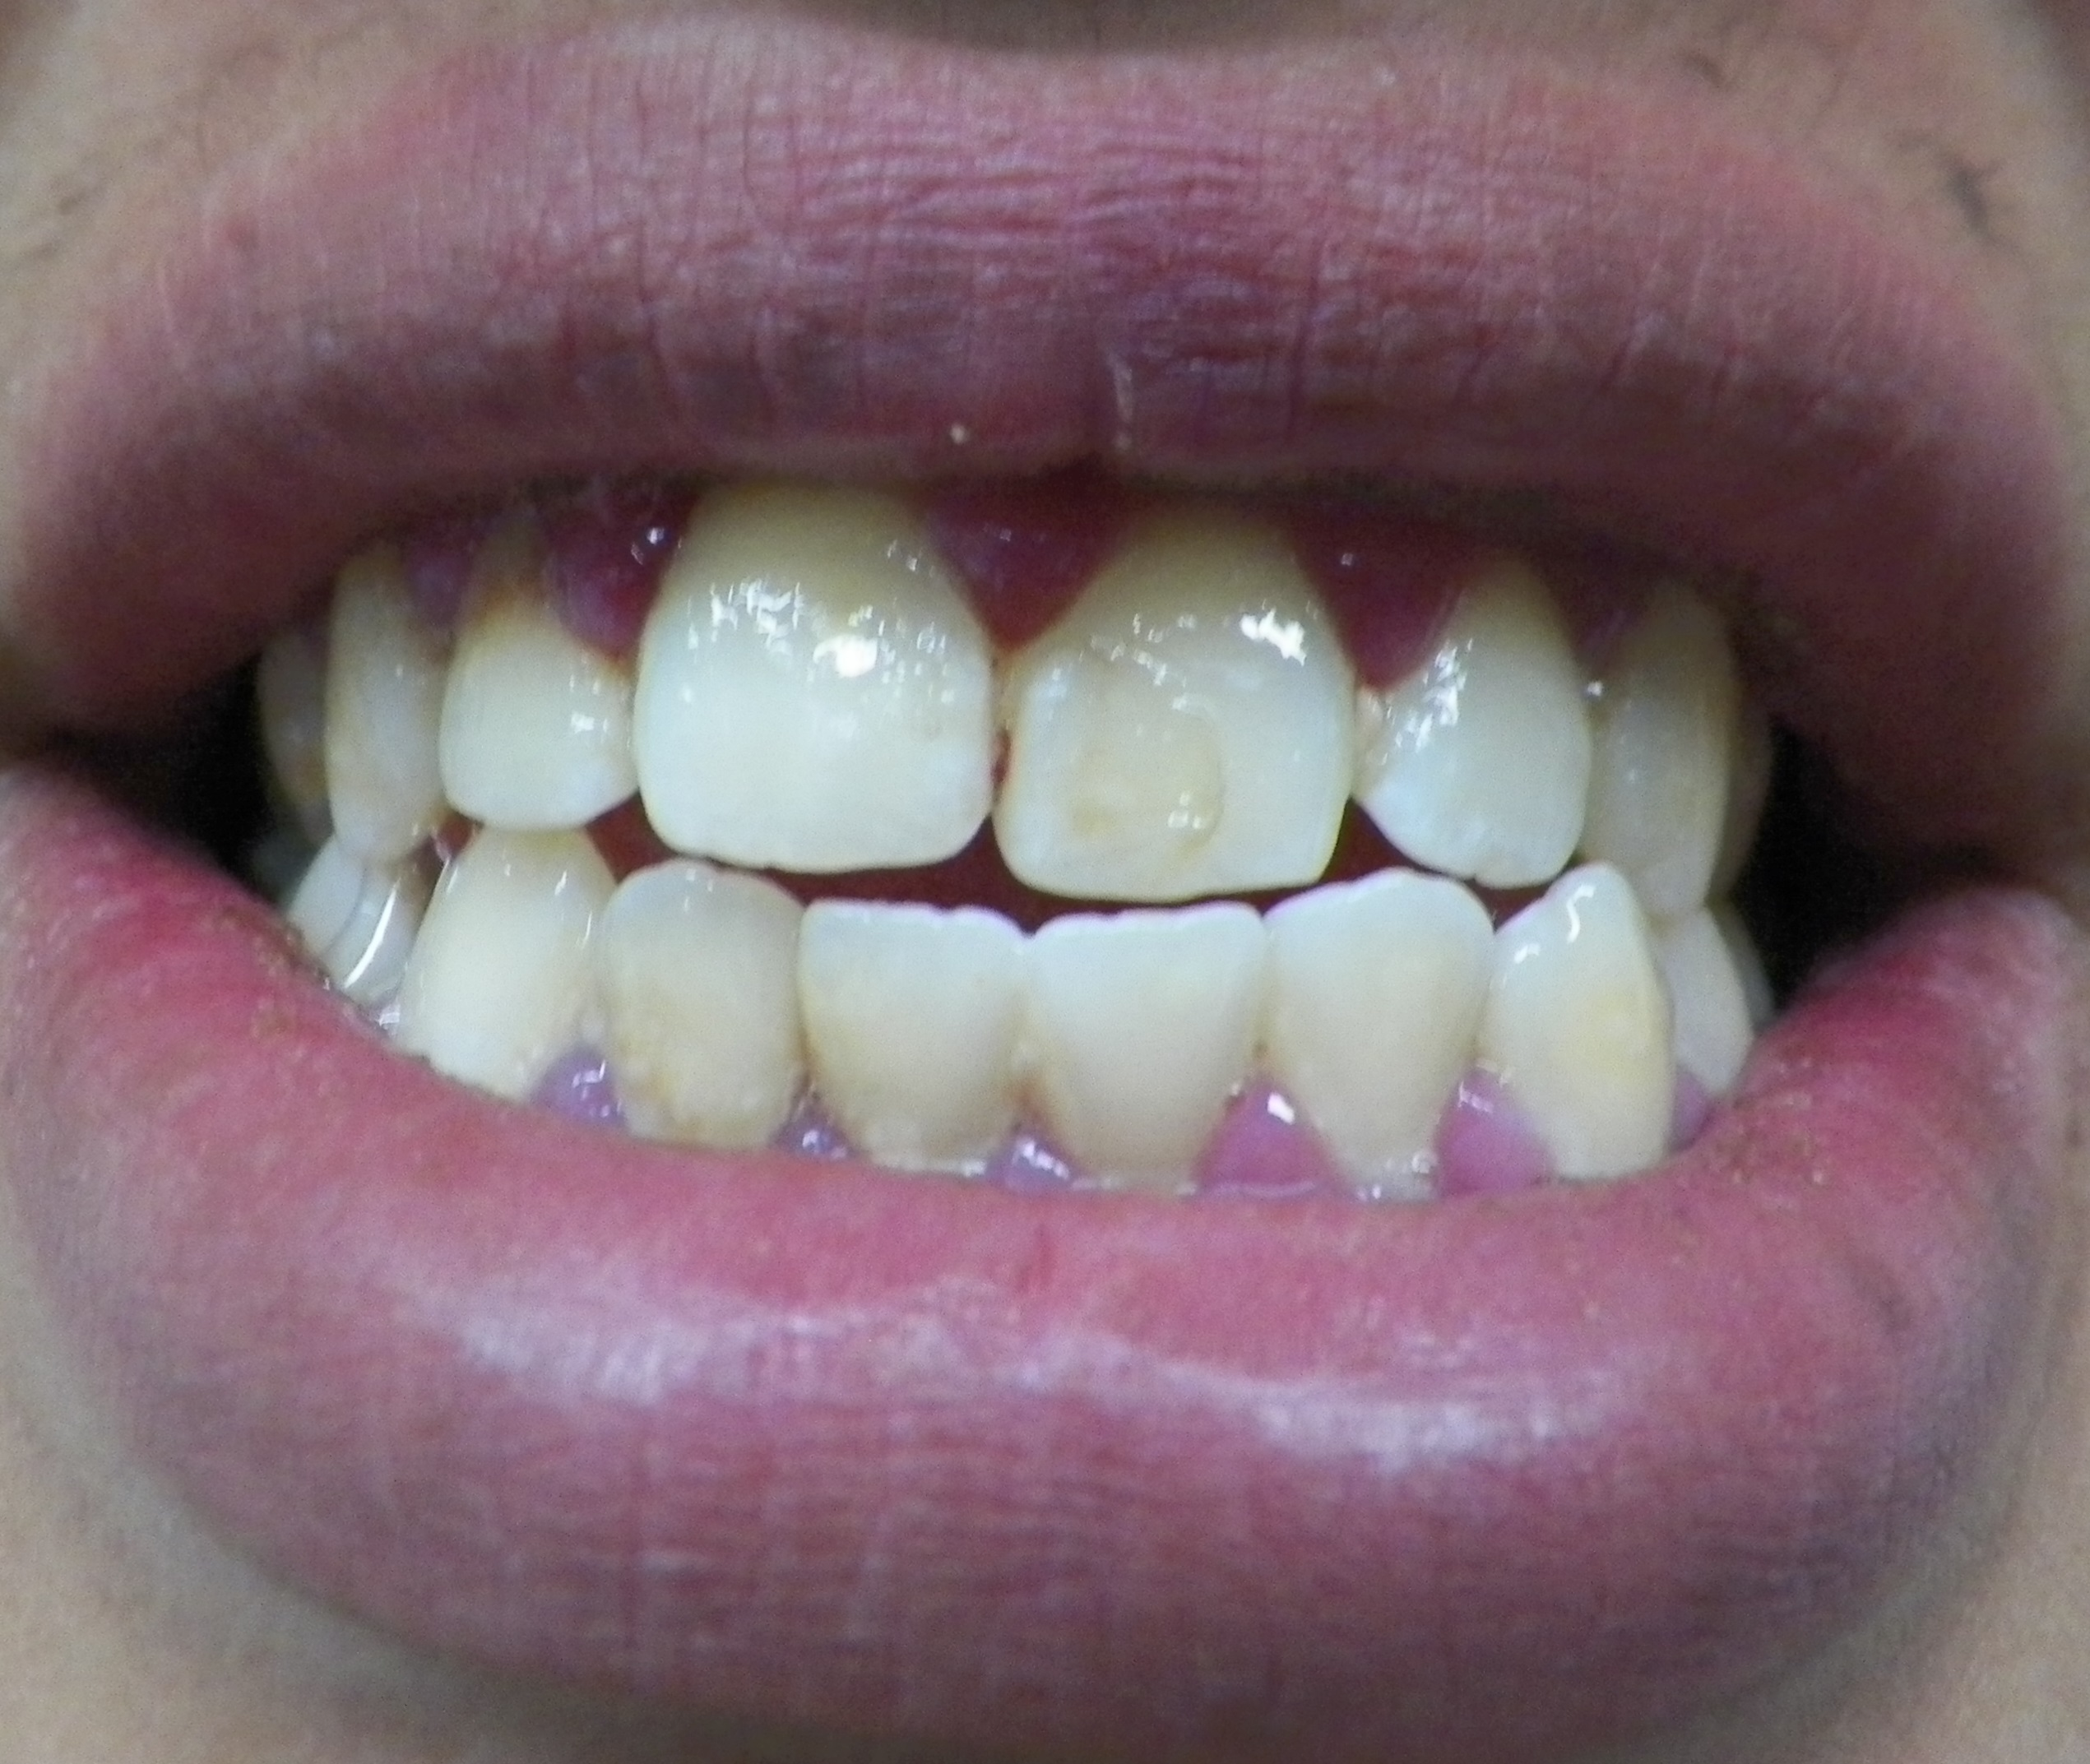boca: (263, 499, 1829, 1178)
